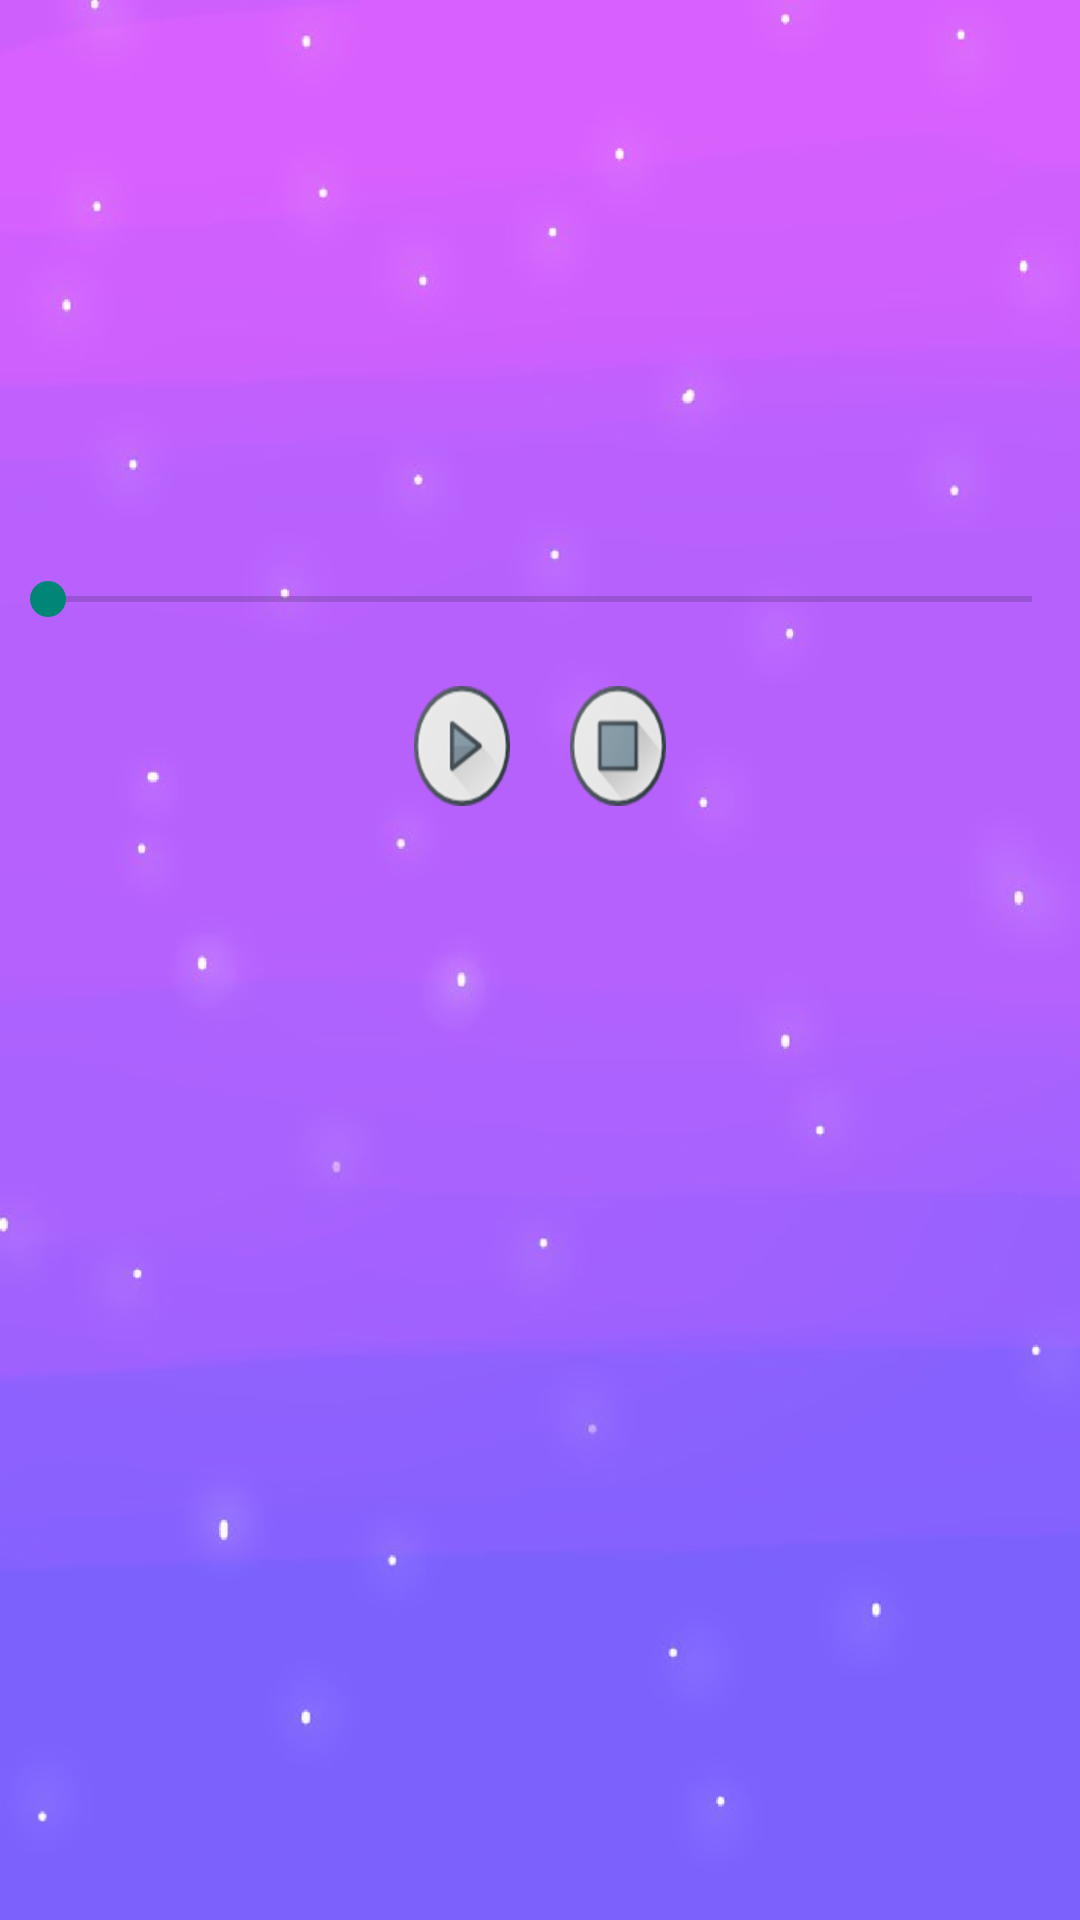

Named icons in this screenshot (1080px×1920px) and their centers, point (x, y):
play: point (462, 746)
stop: point (618, 746)
